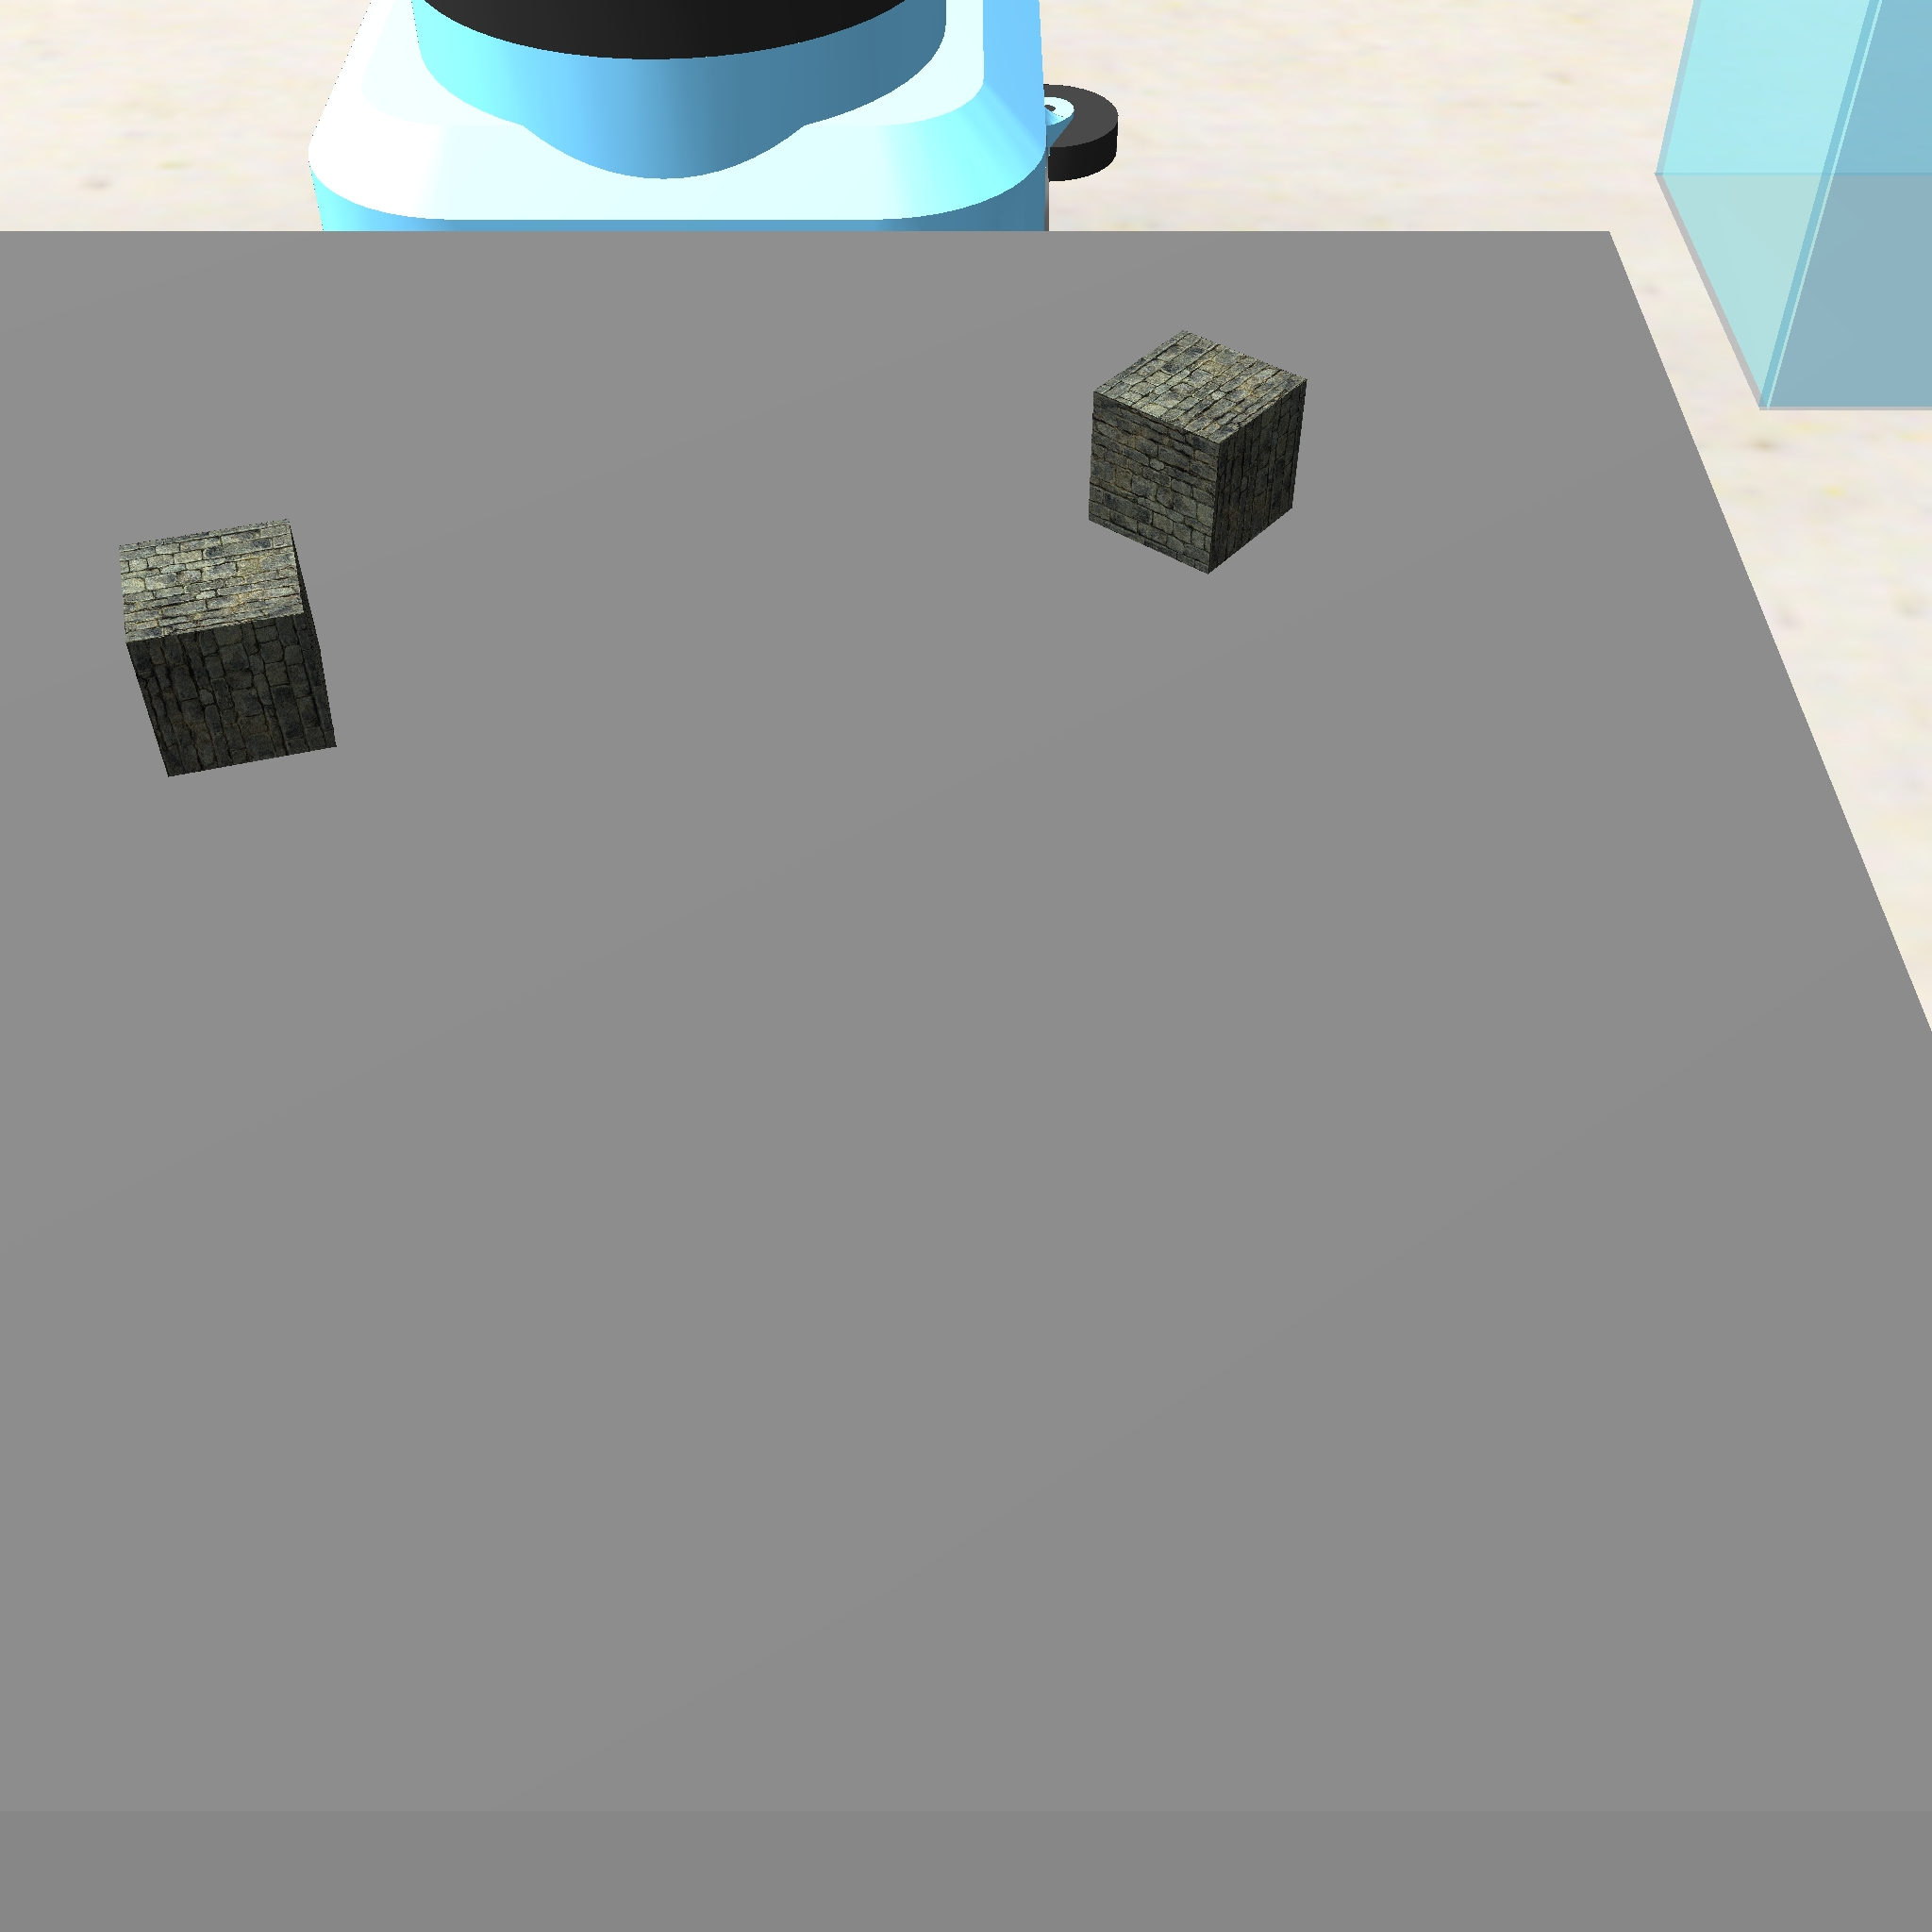cube: (110, 511, 347, 786), (1081, 322, 1315, 584)
